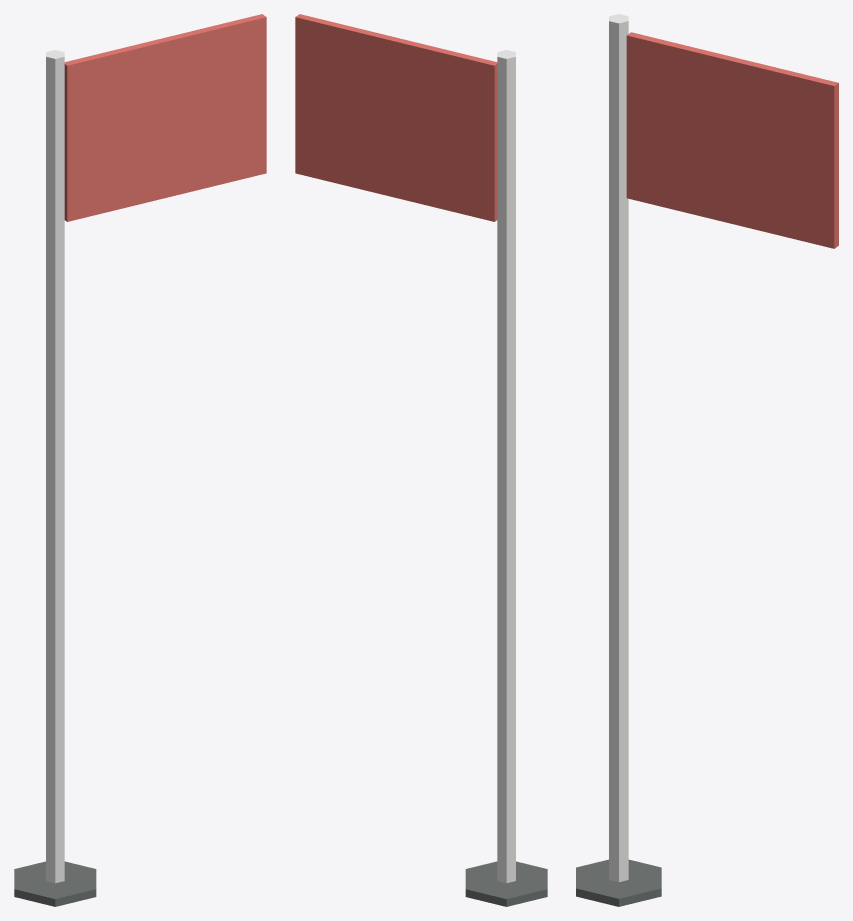
Rendered from golf-flag-far.glb.
The picture shows the model from 3 angles, left to right: view 1: azimuth 30°, elevation 25°; view 2: azimuth 150°, elevation 25°; view 3: azimuth 330°, elevation 25°; orthographic projection. The views are drawn at different scales.
Parts seen in each view (by area): view 1: golf-flag-far; view 2: golf-flag-far; view 3: golf-flag-far.
Boxes of the visible parts, x1,y1,x2,y2 form: golf-flag-far: (14, 14, 266, 906); golf-flag-far: (295, 14, 547, 906); golf-flag-far: (576, 14, 838, 906).
Size of the model in its own units: 0.3144 by 1 by 0.0894.
